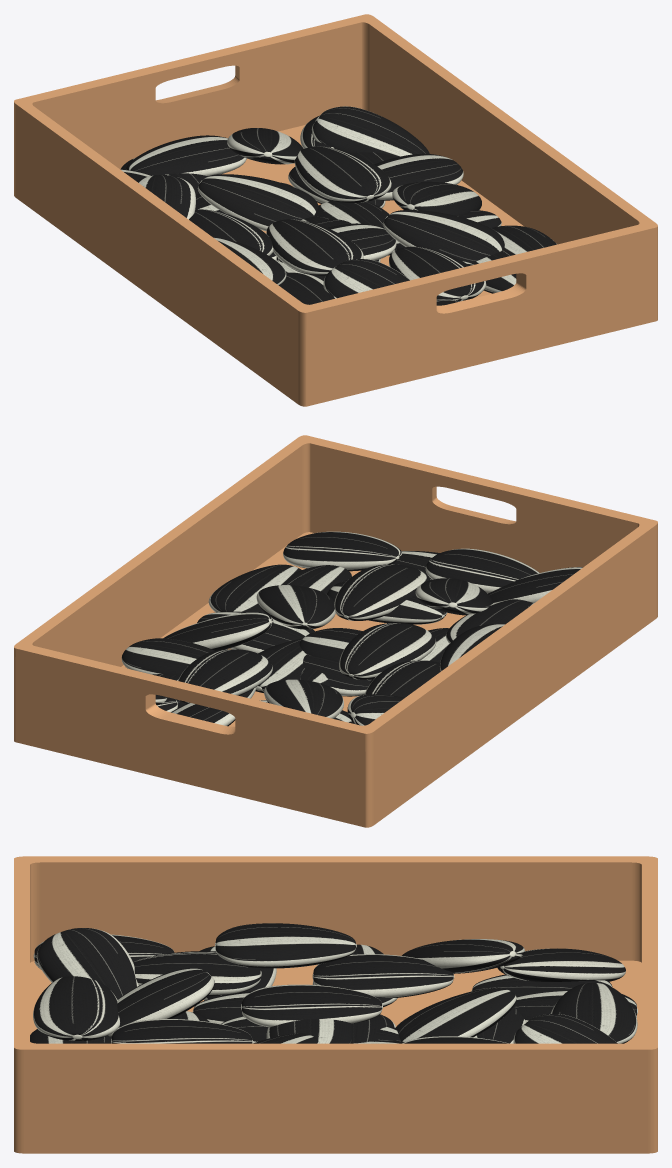
The model's file is feedingBox_SmallAmount.fbx.
3 renders of one model, top to bottom at view 1: azimuth 30°, elevation 25°; view 2: azimuth 150°, elevation 25°; view 3: azimuth 270°, elevation 25°, orthographic. The views are drawn at different scales.
Visible parts, largest first — view 1: Box_Material_0; view 2: Box_Material_0; view 3: Box_Material_0.
Boxes of the visible parts, box(x1,y1,x2,y2) form: Box_Material_0: box(14, 14, 657, 406); Box_Material_0: box(14, 435, 657, 827); Box_Material_0: box(14, 856, 657, 1153).
Size of the model in its own units: 154 by 38.59 by 217.
Materials: 40 (39 with a texture image).
